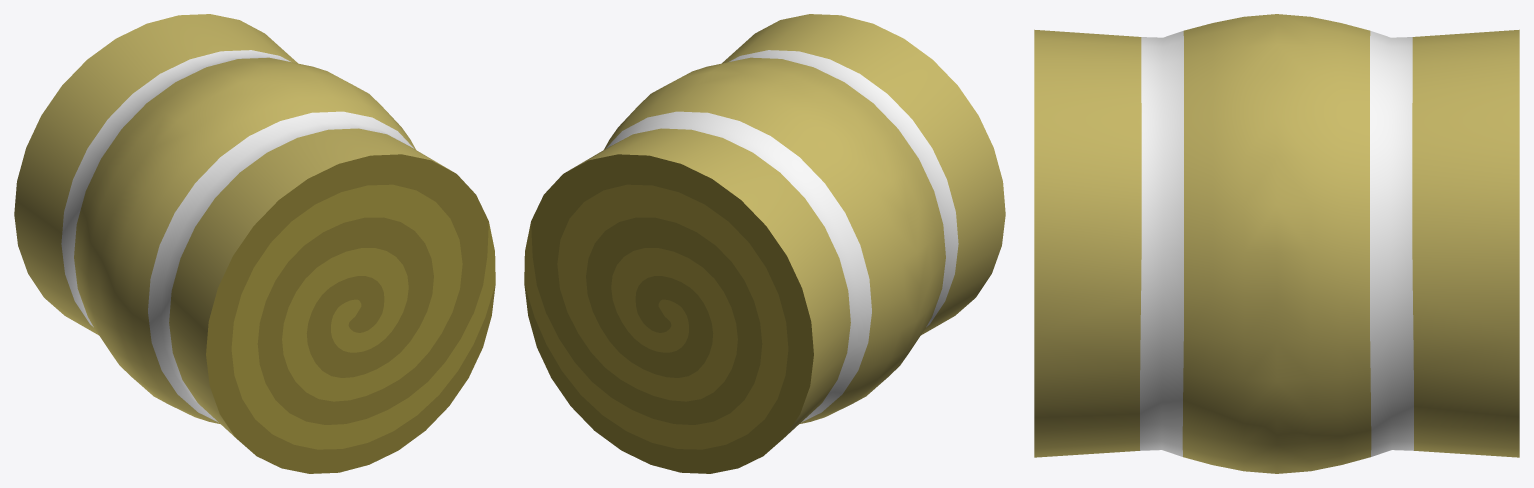
The model's file is Hay.fbx.
3 renders of one model, left to right at view 1: azimuth 30°, elevation 25°; view 2: azimuth 150°, elevation 25°; view 3: azimuth 270°, elevation 25°, orthographic. The views are drawn at different scales.
Parts seen in each view (by area): view 1: Hay; view 2: Hay; view 3: Hay.
Boxes of the visible parts, x1=… form: Hay: x1=14, y1=14, x2=495, y2=473; Hay: x1=524, y1=14, x2=1005, y2=473; Hay: x1=1034, y1=14, x2=1519, y2=473.
Bounding box in the file's own units: 1.53 × 1.56 × 1.63.
